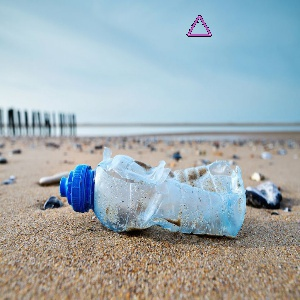triangle: (182, 11, 215, 41)
